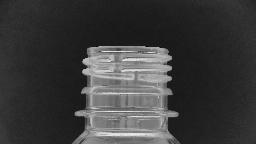No Cap: (66, 42, 184, 122)
